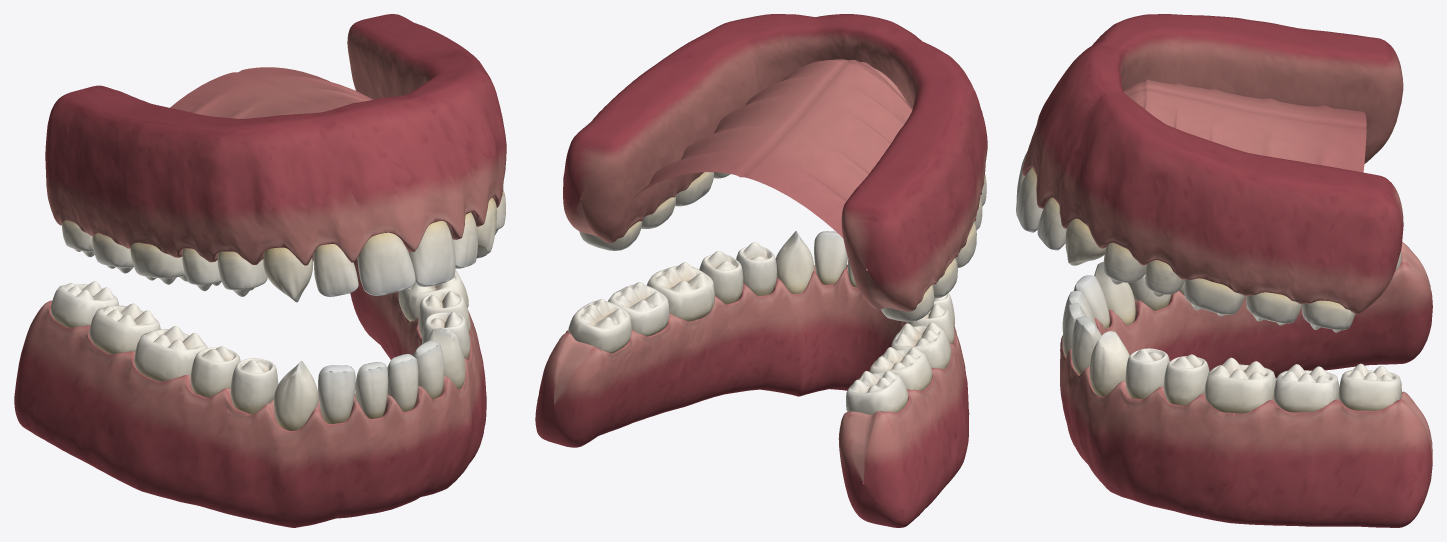
The model's file is dentition.glb.
3 renders of one model, left to right at view 1: azimuth 30°, elevation 25°; view 2: azimuth 150°, elevation 25°; view 3: azimuth 270°, elevation 25°, orthographic. The views are drawn at different scales.
Parts seen in each view (by area): view 1: maxillary_gingiva, mandibular_gingiva, hard_palate, tooth_11_upper_right_central_incisor_crown, tooth_46_lower_right_first_molar_crown, tooth_47_lower_right_second_molar_crown, tooth_21_upper_left_central_incisor_crown, tooth_43_lower_right_canine_crown, tooth_48_lower_right_third_molar_crown, tooth_44_lower_right_first_premolar_crown, tooth_42_lower_right_lateral_incisor_crown, tooth_45_lower_right_second_premolar_crown (+16 smaller); view 2: maxillary_gingiva, mandibular_gingiva, hard_palate, tooth_36_lower_left_first_molar_crown, tooth_38_lower_left_third_molar_crown, tooth_48_lower_right_third_molar_crown, tooth_37_lower_left_second_molar_crown, tooth_47_lower_right_second_molar_crown, tooth_46_lower_right_first_molar_crown, tooth_33_lower_left_canine_crown, tooth_34_lower_left_first_premolar_crown, tooth_35_lower_left_second_premolar_crown (+7 smaller); view 3: maxillary_gingiva, mandibular_gingiva, hard_palate, tooth_36_lower_left_first_molar_crown, tooth_37_lower_left_second_molar_crown, tooth_38_lower_left_third_molar_crown, tooth_33_lower_left_canine_crown, tooth_35_lower_left_second_premolar_crown, tooth_34_lower_left_first_premolar_crown, tooth_26_upper_left_first_molar_crown, tooth_27_upper_left_second_molar_crown, tooth_43_lower_right_canine_crown (+10 smaller).
Boxes of the visible parts, x1,y1,x2,y2 form: maxillary_gingiva: (45, 14, 506, 265); mandibular_gingiva: (14, 258, 486, 527); hard_palate: (170, 67, 372, 118); tooth_11_upper_right_central_incisor_crown: (357, 232, 415, 295); tooth_46_lower_right_first_molar_crown: (134, 326, 207, 381); tooth_47_lower_right_second_molar_crown: (89, 303, 160, 354); tooth_21_upper_left_central_incisor_crown: (408, 220, 455, 286); tooth_43_lower_right_canine_crown: (274, 361, 318, 430); tooth_48_lower_right_third_molar_crown: (50, 281, 119, 327); tooth_44_lower_right_first_premolar_crown: (230, 358, 278, 414); tooth_42_lower_right_lateral_incisor_crown: (318, 365, 355, 423); tooth_45_lower_right_second_premolar_crown: (190, 346, 240, 397); maxillary_gingiva: (563, 14, 987, 311); mandibular_gingiva: (535, 264, 969, 527); hard_palate: (634, 59, 912, 237); tooth_36_lower_left_first_molar_crown: (647, 262, 714, 321); tooth_38_lower_left_third_molar_crown: (568, 299, 631, 353); tooth_48_lower_right_third_molar_crown: (846, 371, 908, 414); tooth_37_lower_left_second_molar_crown: (608, 282, 669, 336); tooth_47_lower_right_second_molar_crown: (869, 347, 932, 390); tooth_46_lower_right_first_molar_crown: (891, 322, 951, 369); tooth_33_lower_left_canine_crown: (775, 231, 814, 293); tooth_34_lower_left_first_premolar_crown: (736, 242, 777, 295); tooth_35_lower_left_second_premolar_crown: (699, 251, 743, 304); maxillary_gingiva: (1022, 14, 1403, 314); mandibular_gingiva: (1060, 242, 1432, 527); hard_palate: (1123, 79, 1366, 172); tooth_36_lower_left_first_molar_crown: (1204, 357, 1276, 413); tooth_37_lower_left_second_molar_crown: (1273, 364, 1339, 412); tooth_38_lower_left_third_molar_crown: (1338, 363, 1401, 410); tooth_33_lower_left_canine_crown: (1089, 331, 1129, 396); tooth_35_lower_left_second_premolar_crown: (1164, 354, 1209, 405); tooth_34_lower_left_first_premolar_crown: (1125, 348, 1169, 399); tooth_26_upper_left_first_molar_crown: (1184, 278, 1245, 316); tooth_27_upper_left_second_molar_crown: (1246, 292, 1302, 325); tooth_43_lower_right_canine_crown: (1094, 262, 1135, 325).
Bounding box in the file's own units: 0.0732 × 0.0714 × 0.0675.
